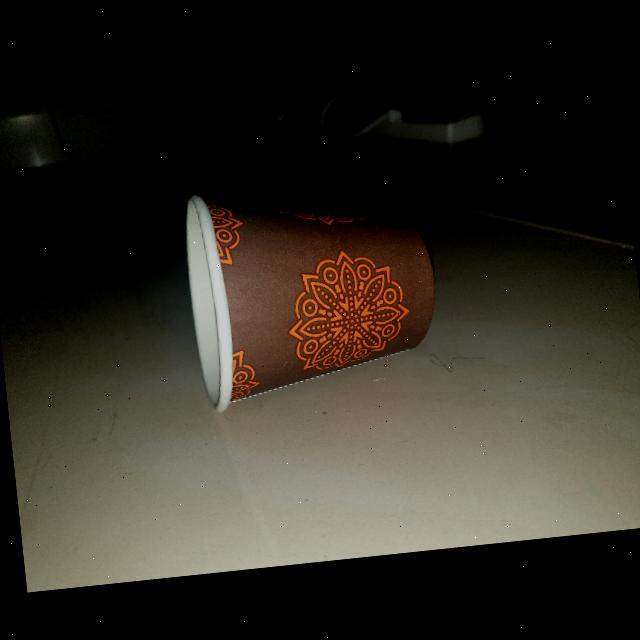trash: (158, 160, 456, 426)
